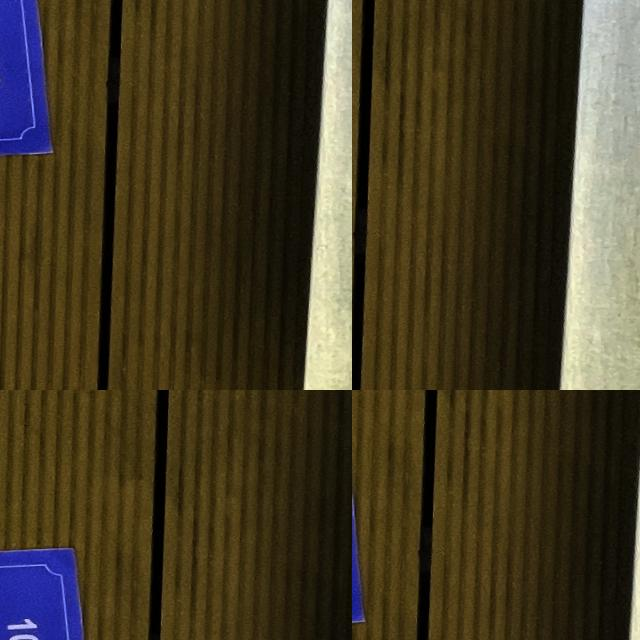Card: (94, 0, 352, 319), (146, 390, 352, 463), (352, 415, 418, 640), (580, 108, 640, 350)
